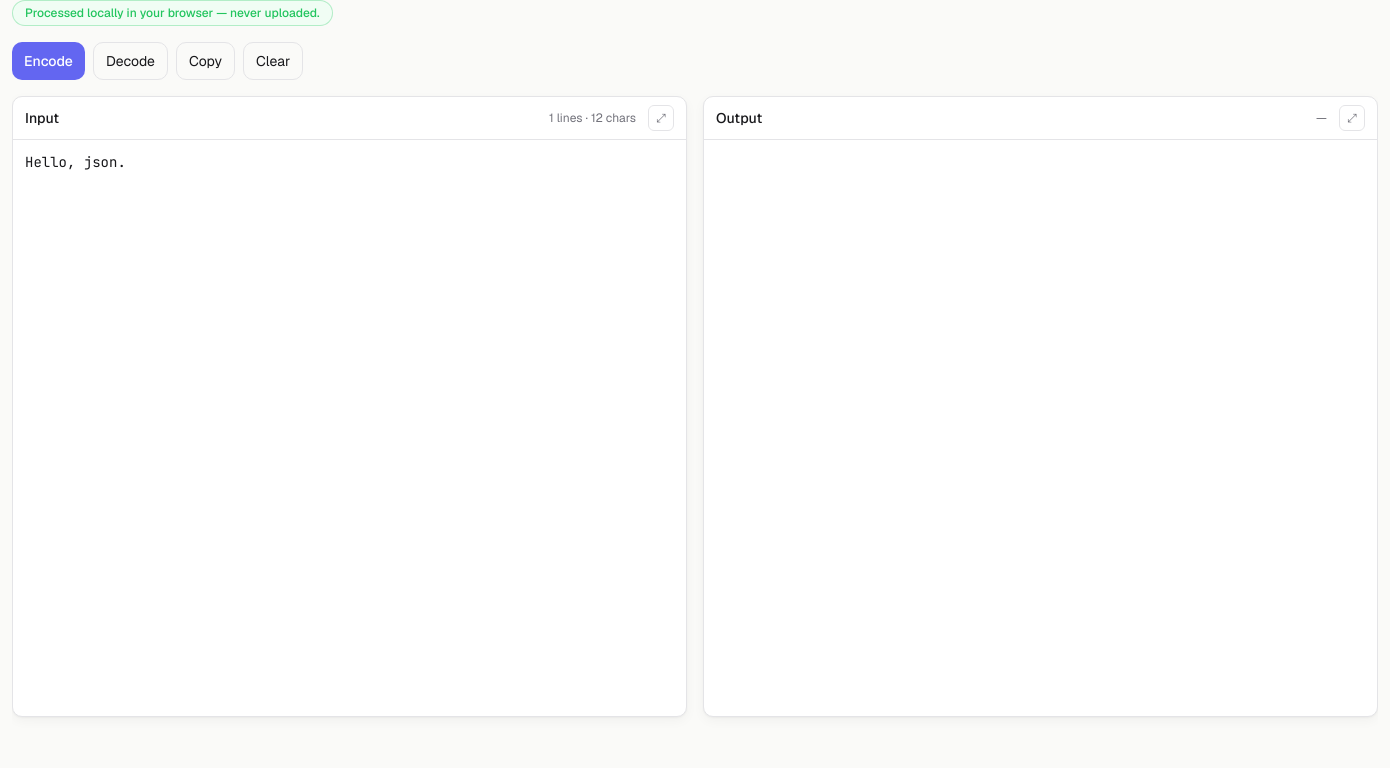
Test: Base64Tool › shows error for invalid base64
Clear the text box named "input" at (350, 428), box [13,140,686,716]
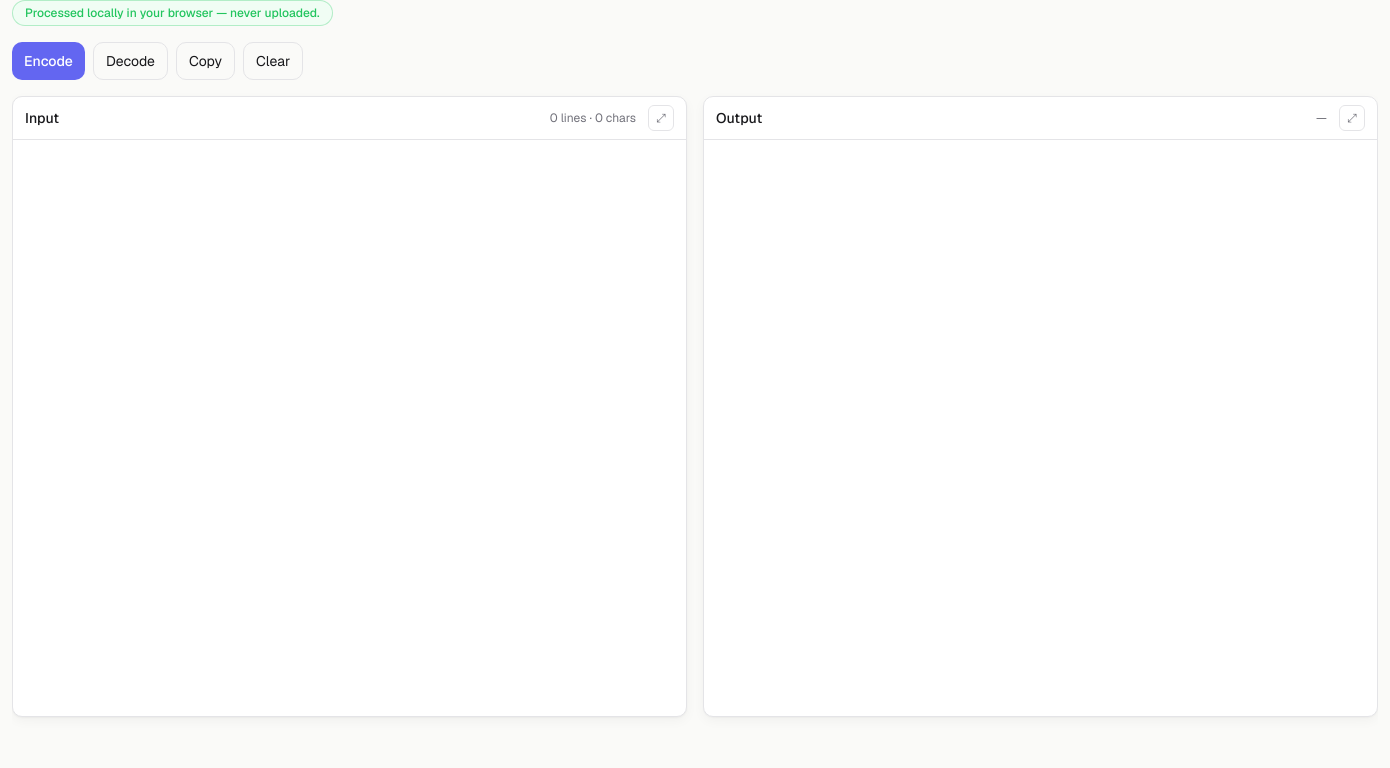
Type keys "!!!"
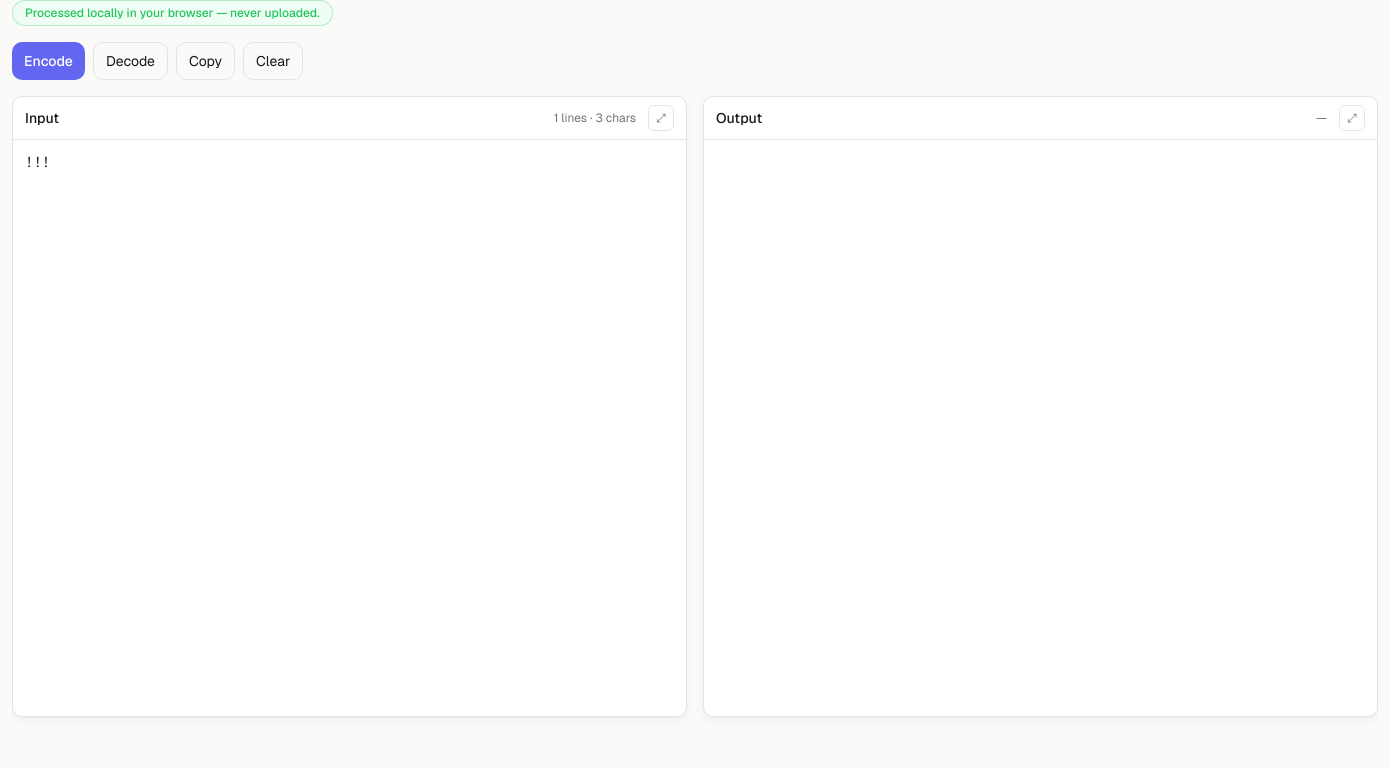
Click the button "Decode".
click(130, 61)  # box [93,42,168,80]
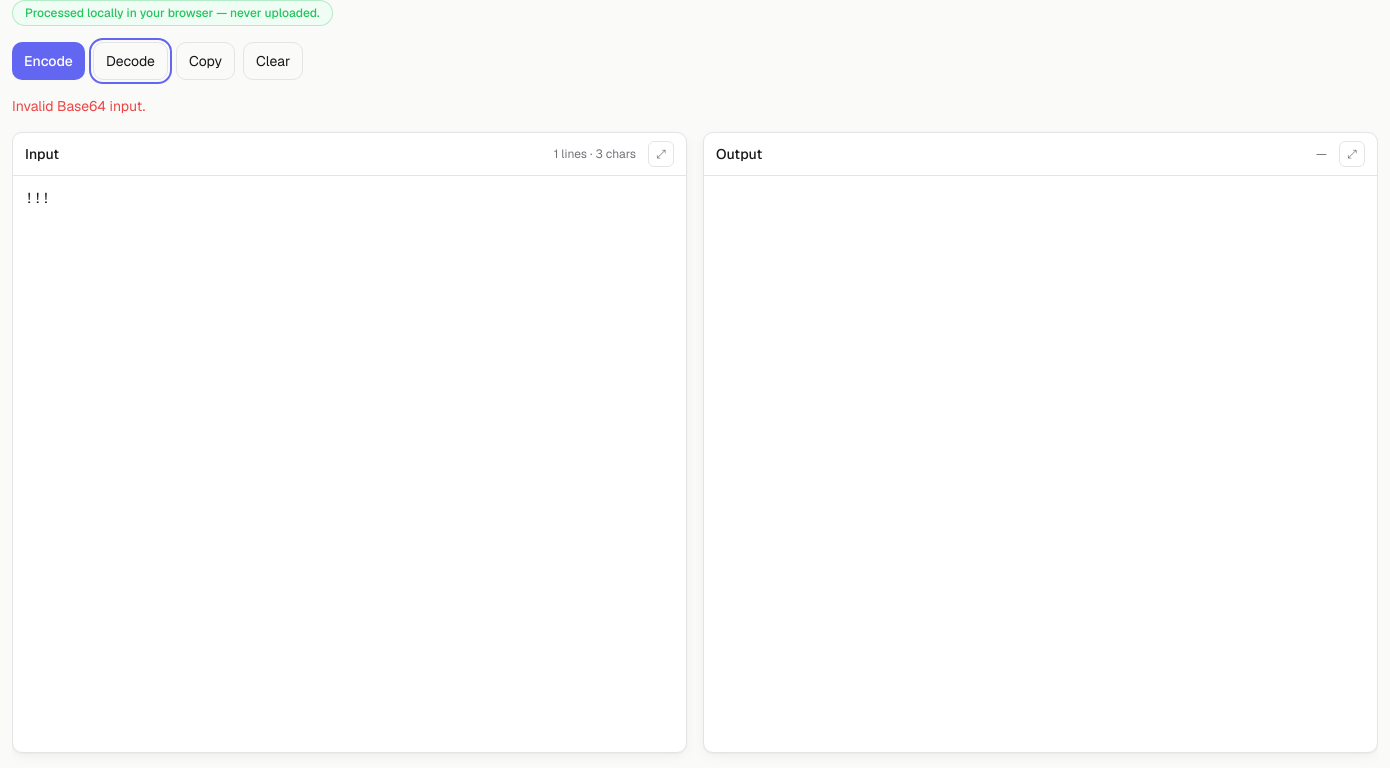
Expected: the message shows "Invalid Base64", [12,97,145,115]
